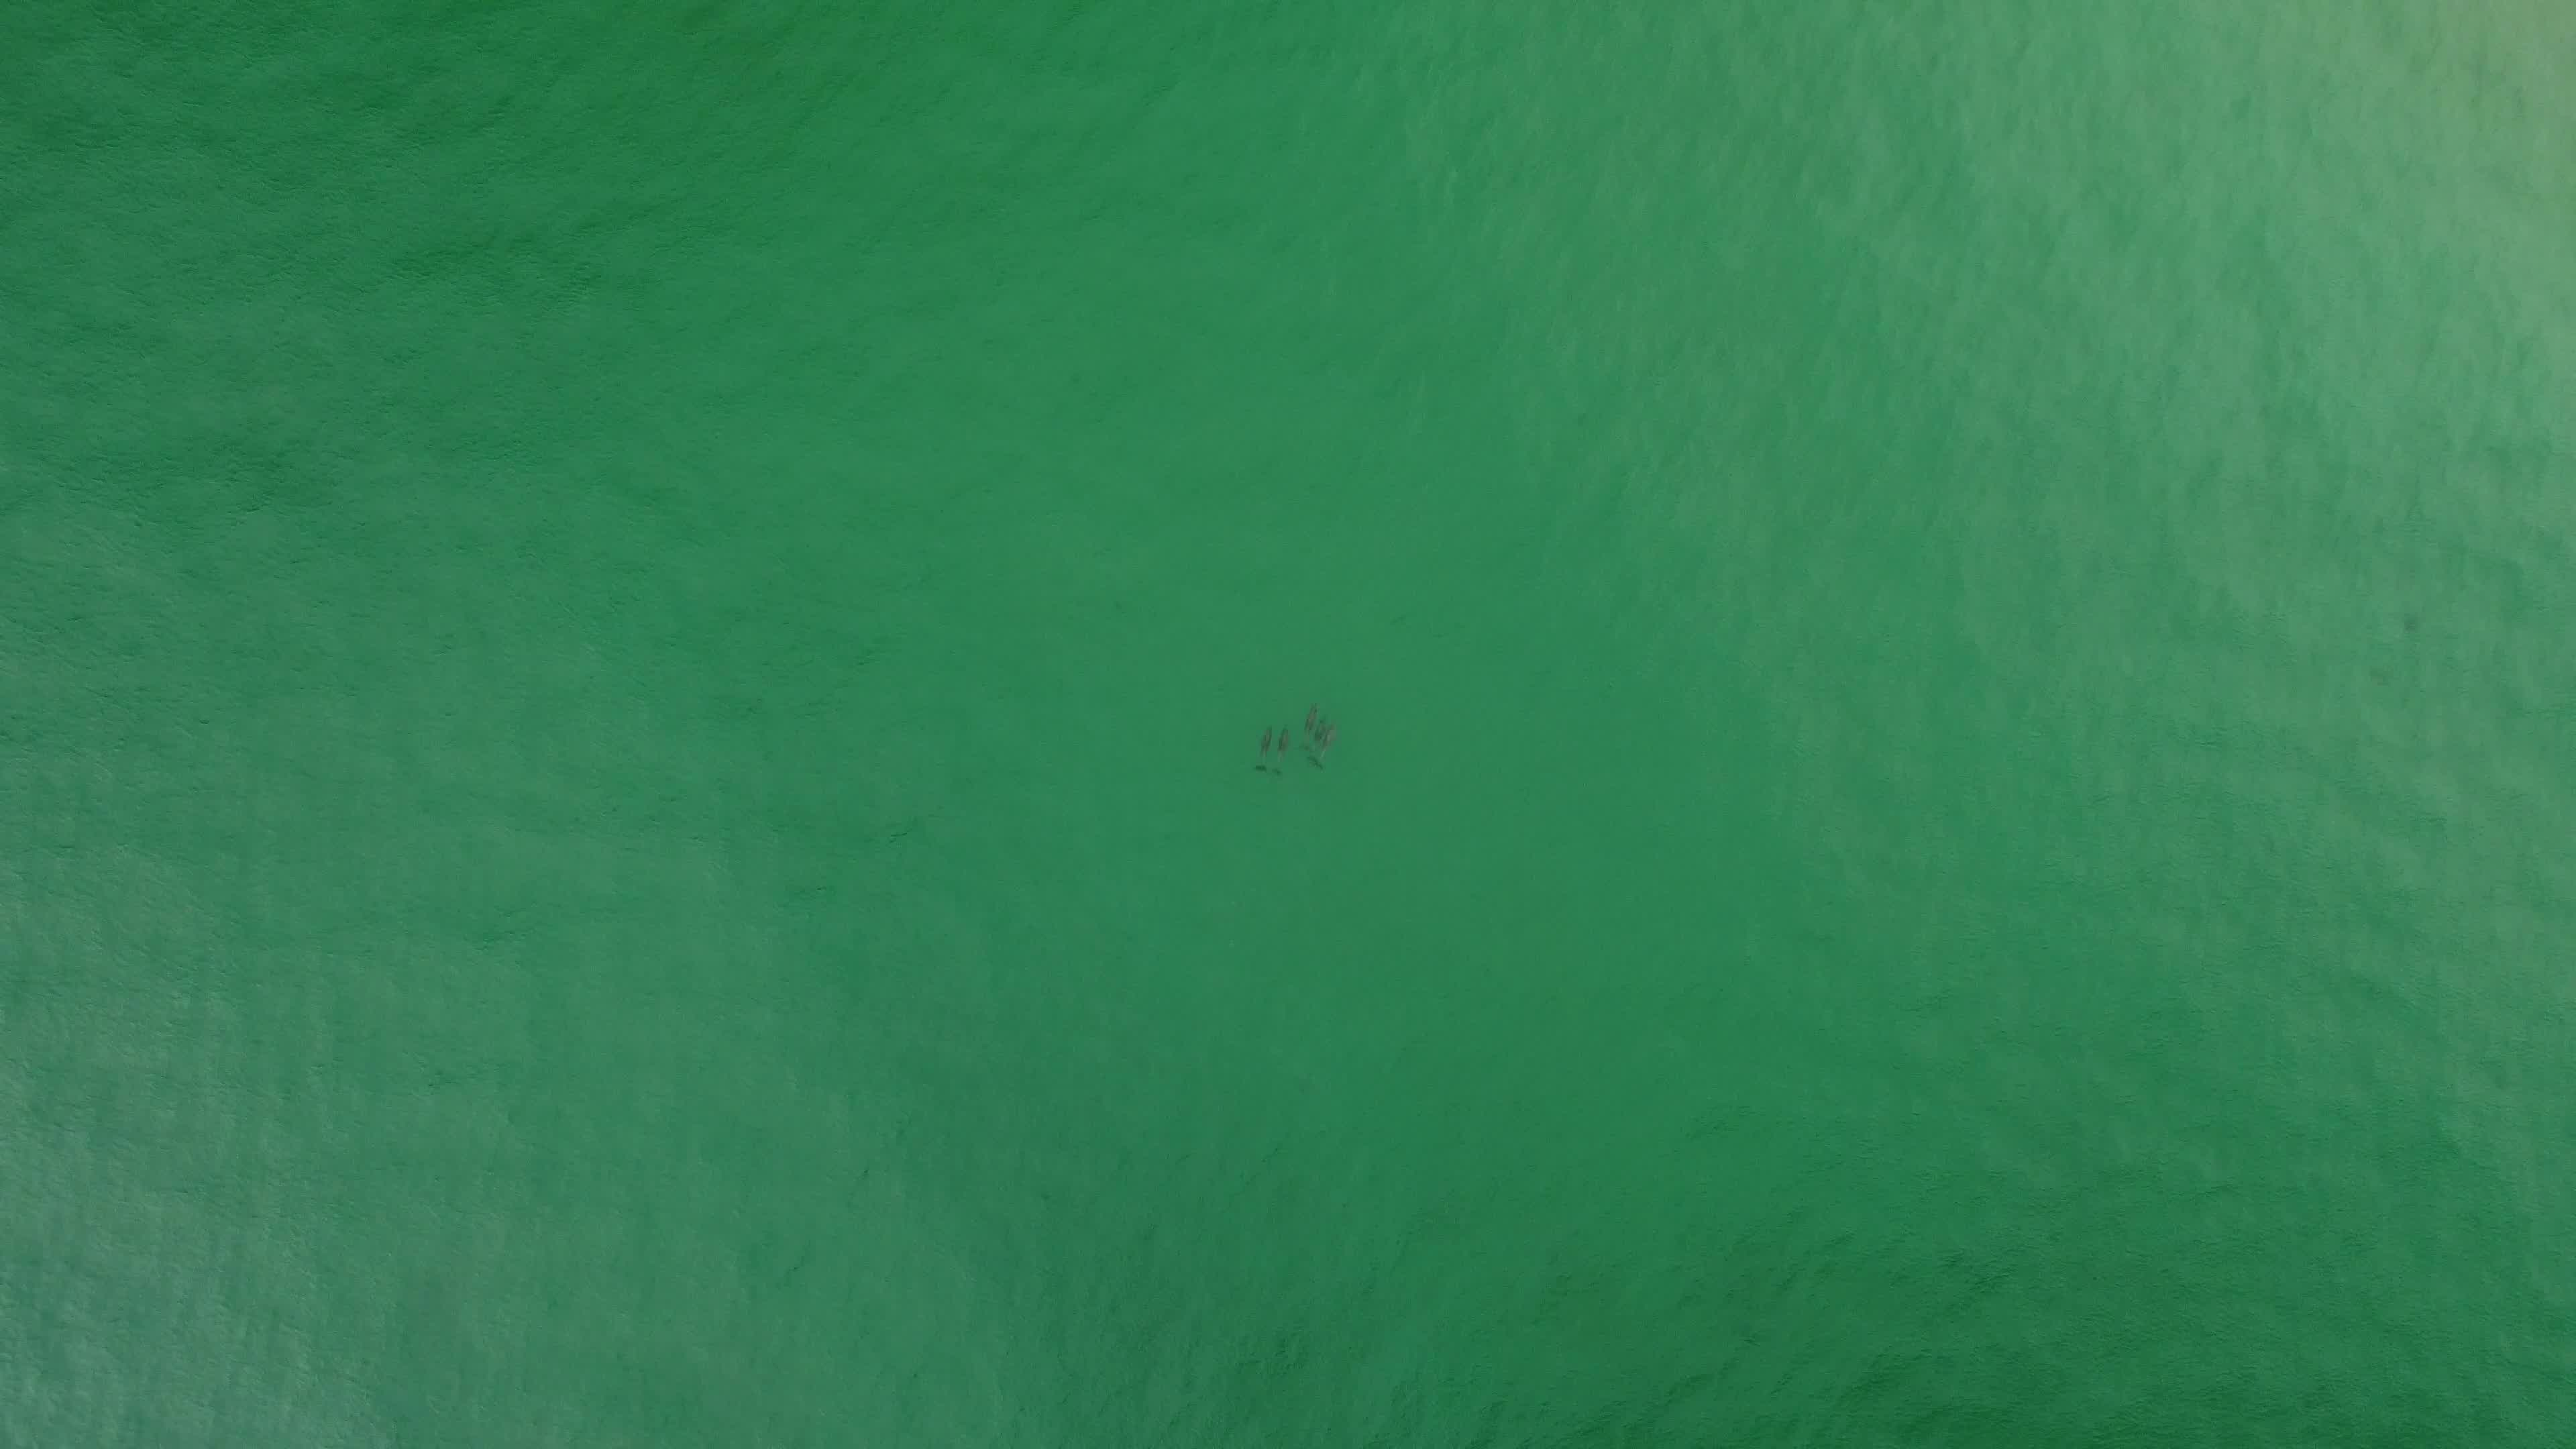dolphin: (1246, 720, 1276, 777), (1315, 709, 1338, 775), (1293, 699, 1318, 757), (1272, 720, 1293, 782)
